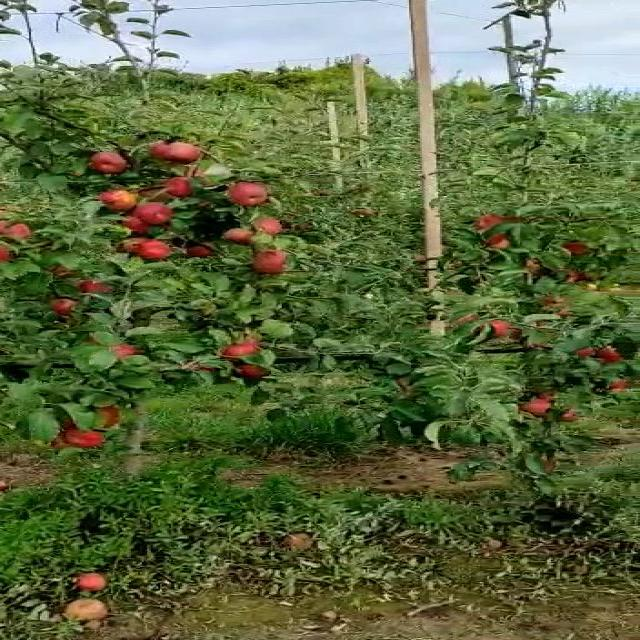100-_ripeness: (213, 334, 260, 363), (471, 316, 520, 340), (124, 203, 171, 227), (227, 181, 271, 206), (214, 224, 264, 246), (93, 186, 142, 208), (256, 246, 293, 274), (253, 214, 296, 238), (146, 142, 203, 160), (89, 400, 124, 429), (129, 233, 171, 257), (96, 334, 144, 355), (62, 422, 102, 446), (89, 148, 127, 172), (2, 215, 33, 243), (229, 360, 269, 379), (486, 230, 528, 248), (594, 342, 632, 360), (160, 181, 200, 197), (524, 396, 551, 417), (53, 300, 82, 317)
